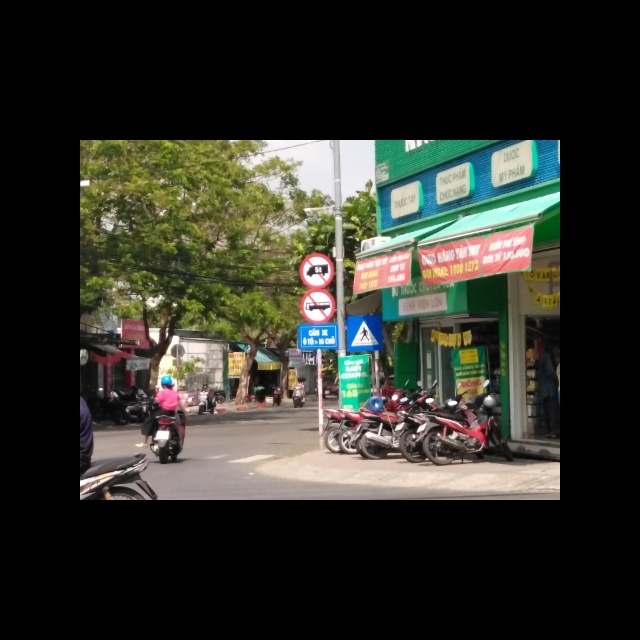Cấm xe tải: (297, 253, 333, 289)
Cấm xe xe khách: (298, 289, 335, 326)
Đường dành cho người đi bộ: (348, 315, 384, 352)
